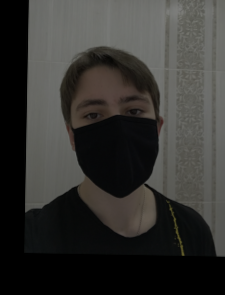with_mask: (72, 79, 160, 198)
